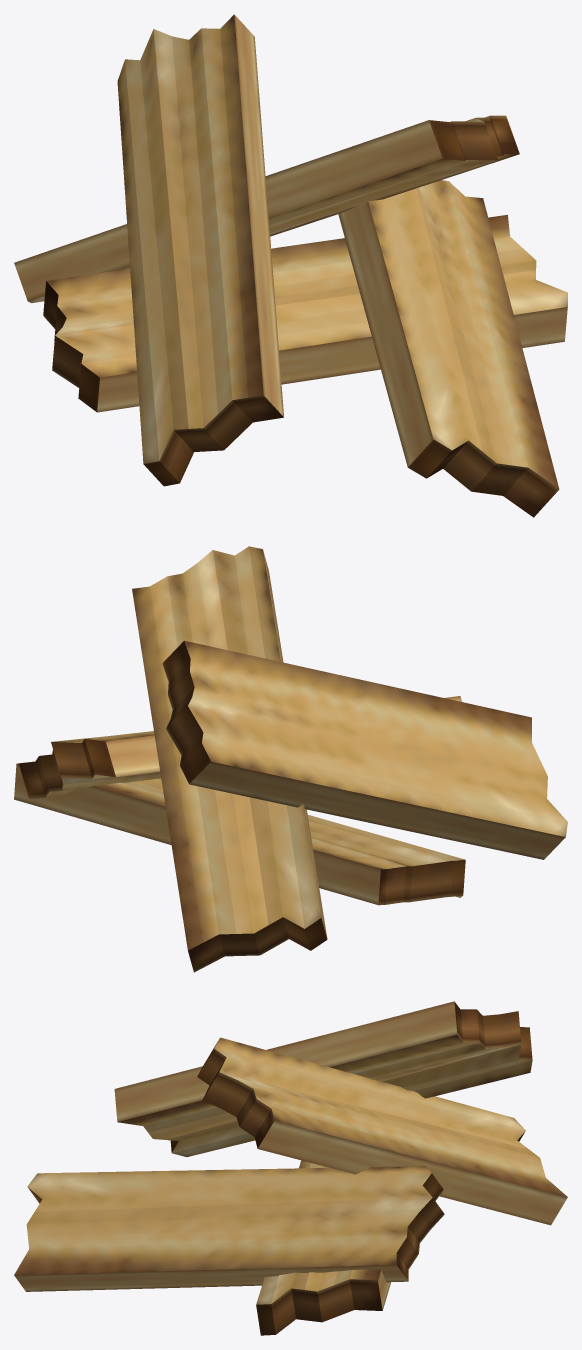
File: Inside_Poly_Planks_01.obj
3 renders of one model, top to bottom at view 1: azimuth 30°, elevation 25°; view 2: azimuth 150°, elevation 25°; view 3: azimuth 270°, elevation 25°, orthographic. The views are drawn at different scales.
Visible parts, largest first — view 1: Cube.003_Cube.004, Cube.002_Cube.003, Cube, Cube.001_Cube.002; view 2: Cube.003_Cube.004, Cube.001_Cube.002, Cube, Cube.002_Cube.003; view 3: Cube.002_Cube.003, Cube.001_Cube.002, Cube.003_Cube.004, Cube.
Part boxes in pixels (x1,y1,x2,y2): Cube.003_Cube.004: (117,14,283,486); Cube.002_Cube.003: (338,180,559,517); Cube: (43,214,567,412); Cube.001_Cube.002: (14,115,519,303); Cube.003_Cube.004: (162,640,567,859); Cube.001_Cube.002: (132,546,327,972); Cube: (14,763,465,905); Cube.002_Cube.003: (19,696,461,798); Cube.002_Cube.003: (14,1166,444,1291); Cube.001_Cube.002: (197,1037,567,1225); Cube.003_Cube.004: (114,1001,532,1156); Cube: (256,1160,390,1335).
Bounding box in the file's own units: 0.9443 × 0.6132 × 1.13.
1 material, 1 textured.
